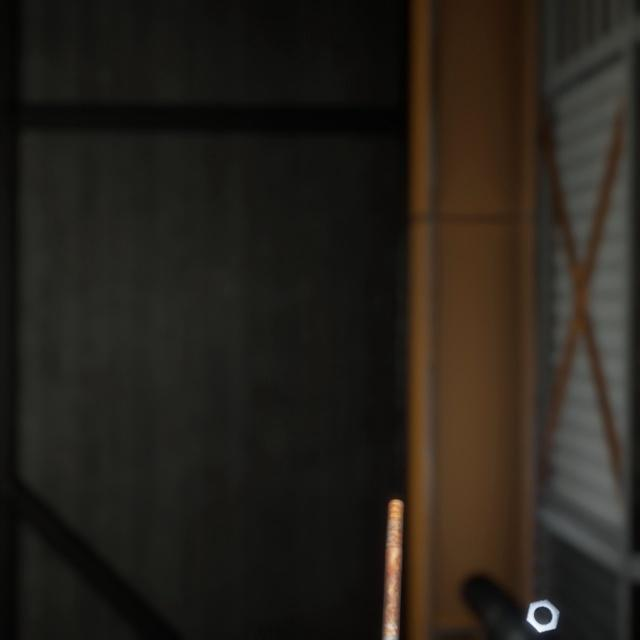bolt: (371, 473, 408, 640)
nut: (519, 571, 564, 616)
